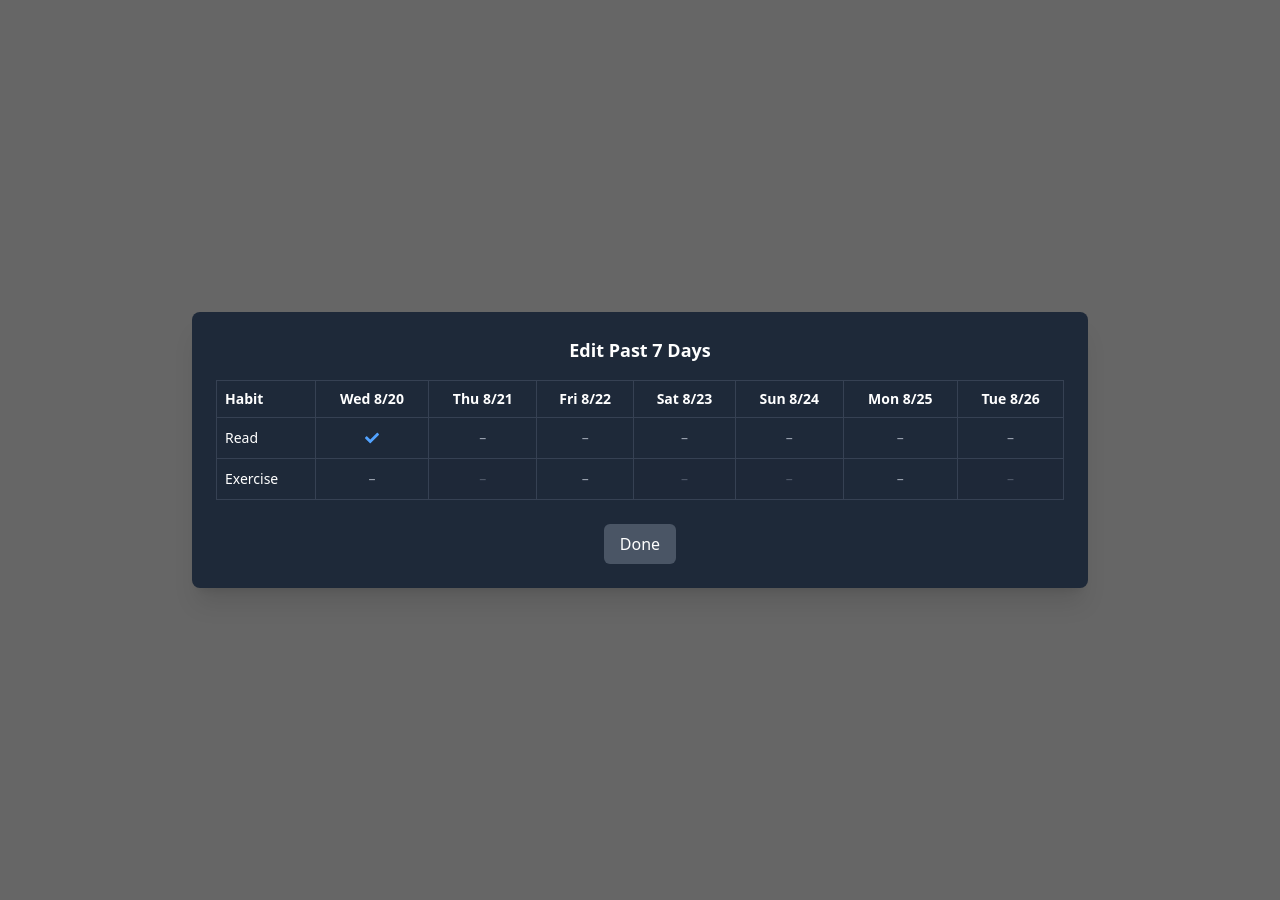
EditPastDaysDialog › toggles checkbox when clicking active day
Expected: the icon is shown, [365,431,379,445]
Click the cell named "Mark as incomplete".
click(372, 438)  # box [315,418,429,458]
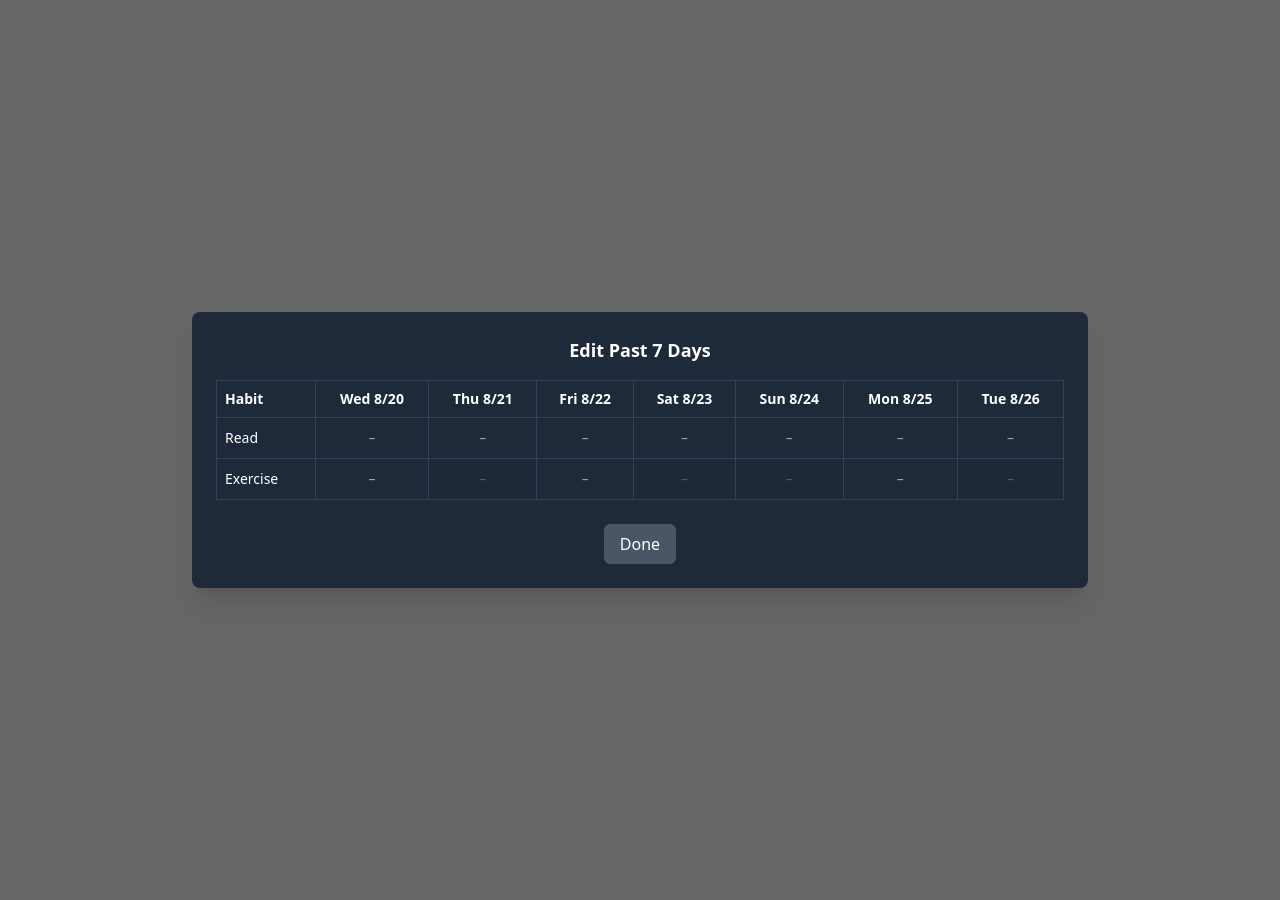
Expected: the icon is gone
